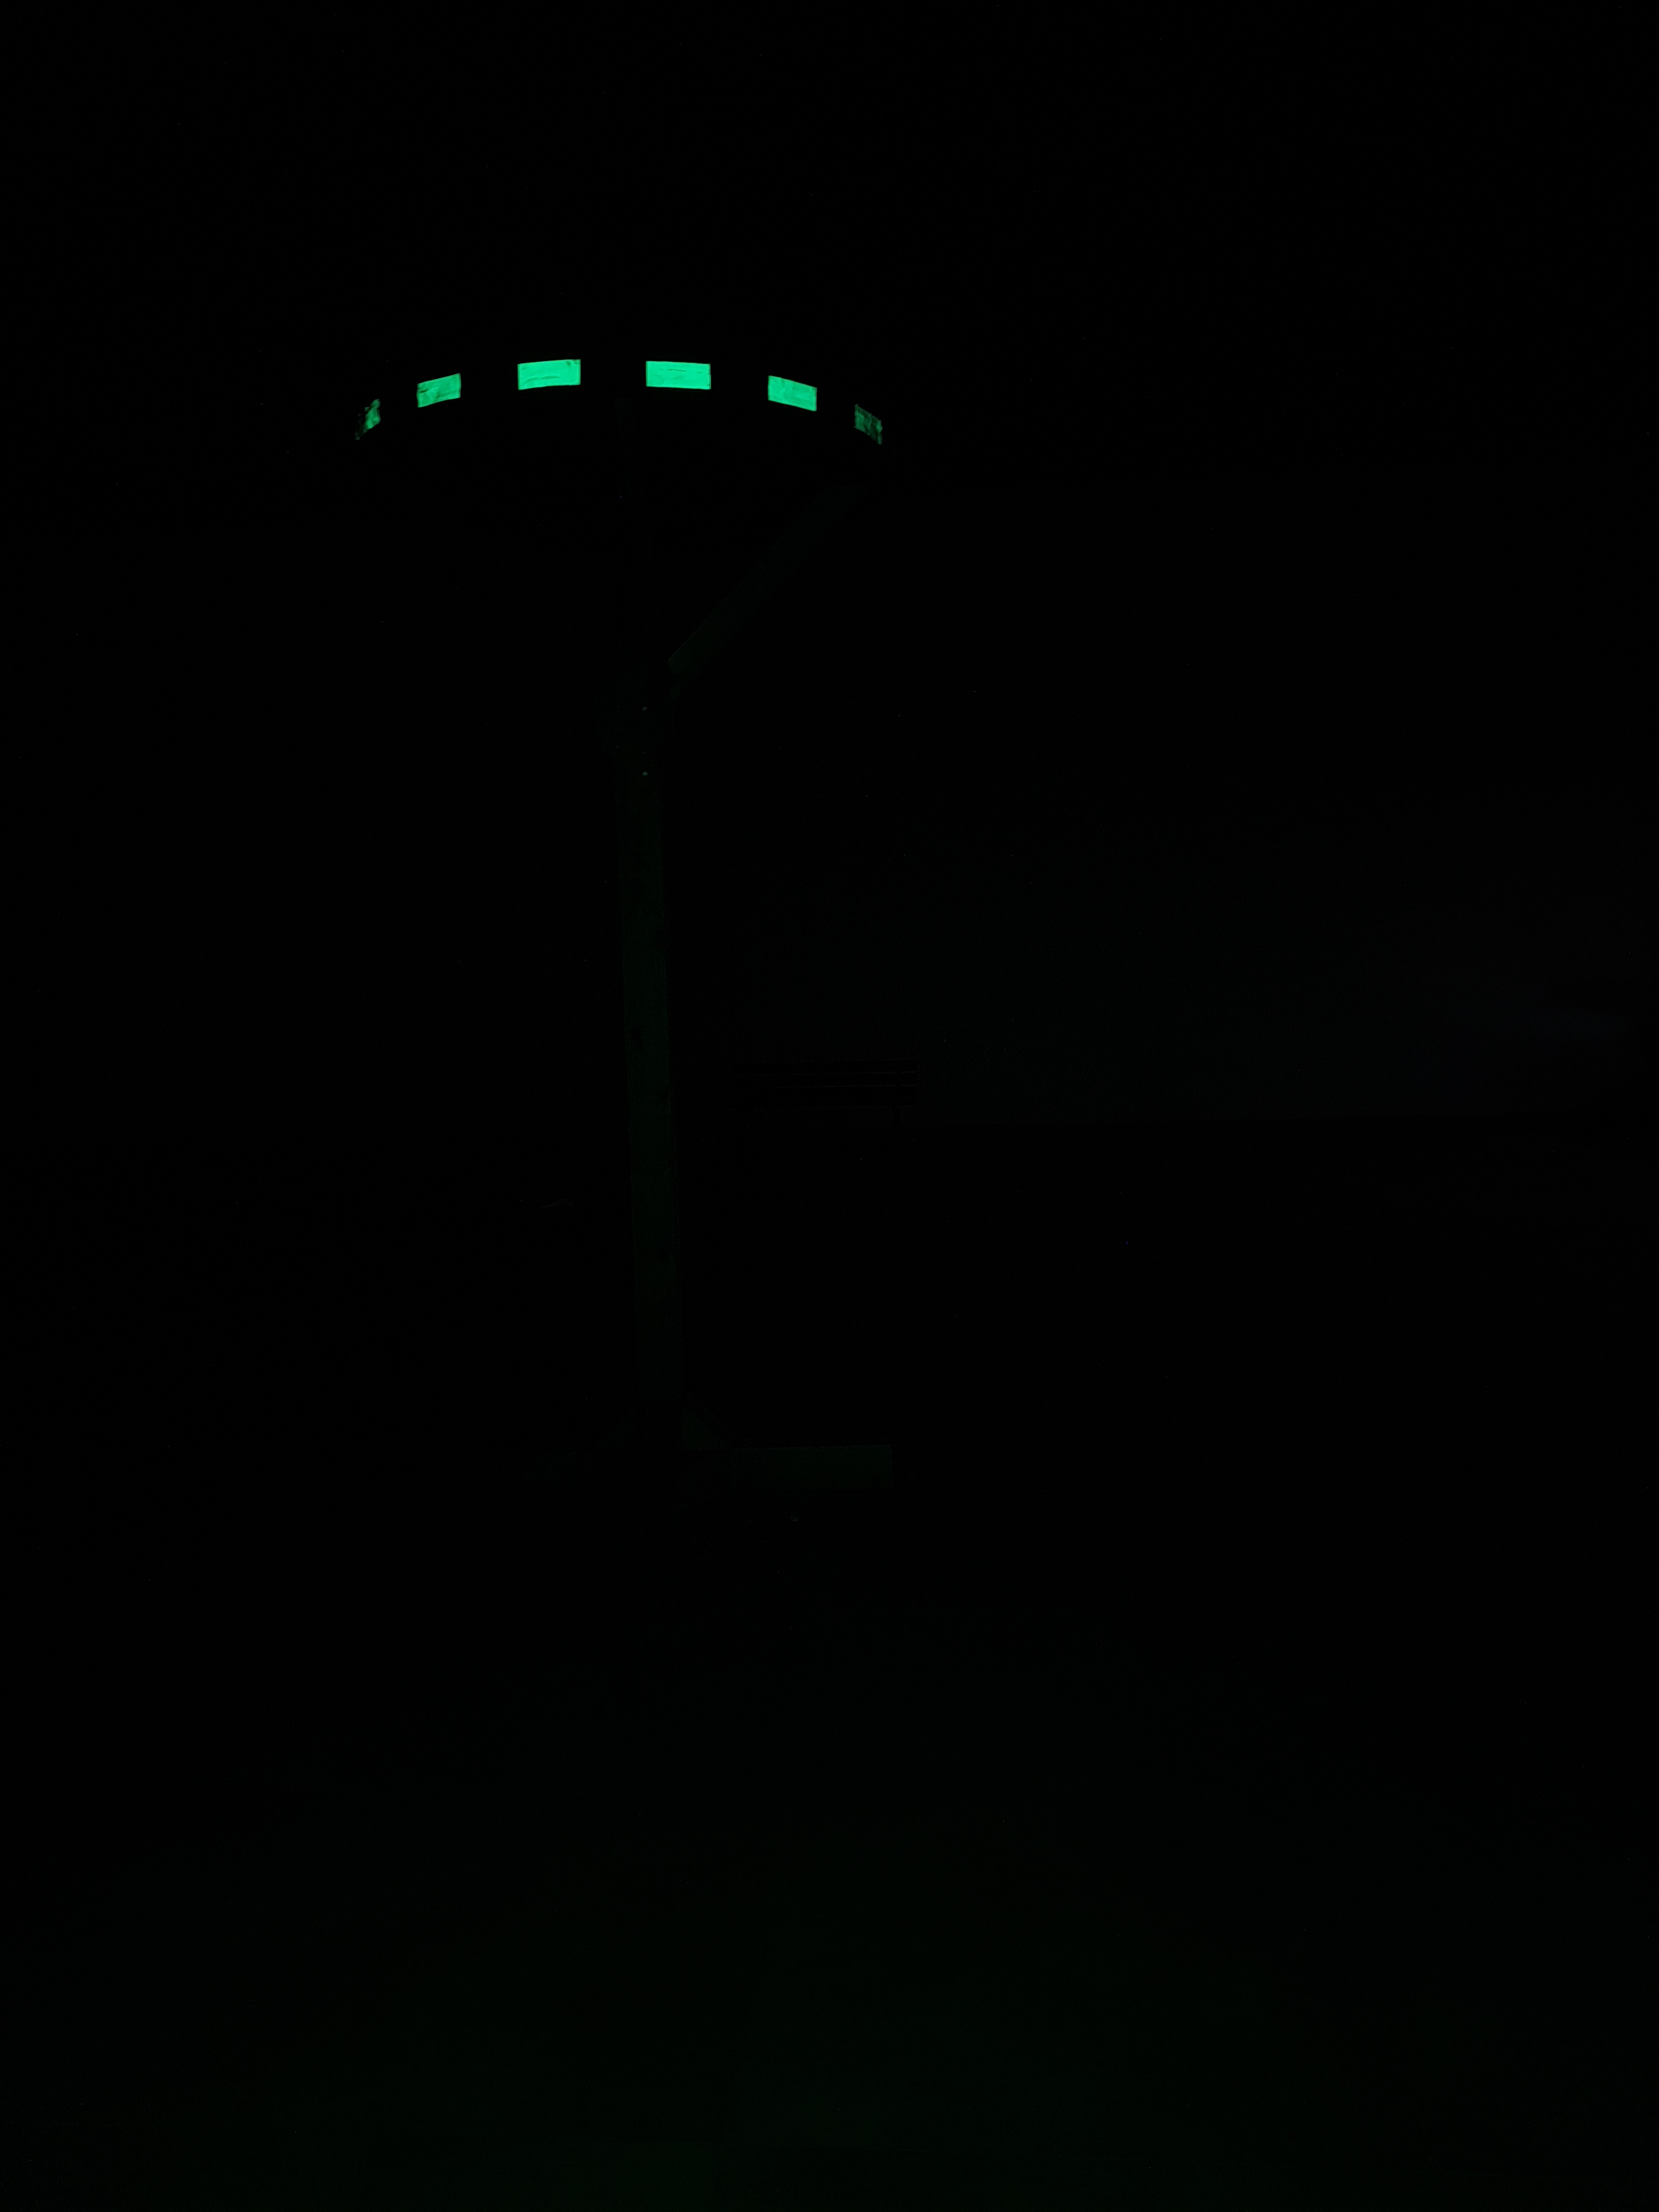hoop: (336, 348, 887, 472)
